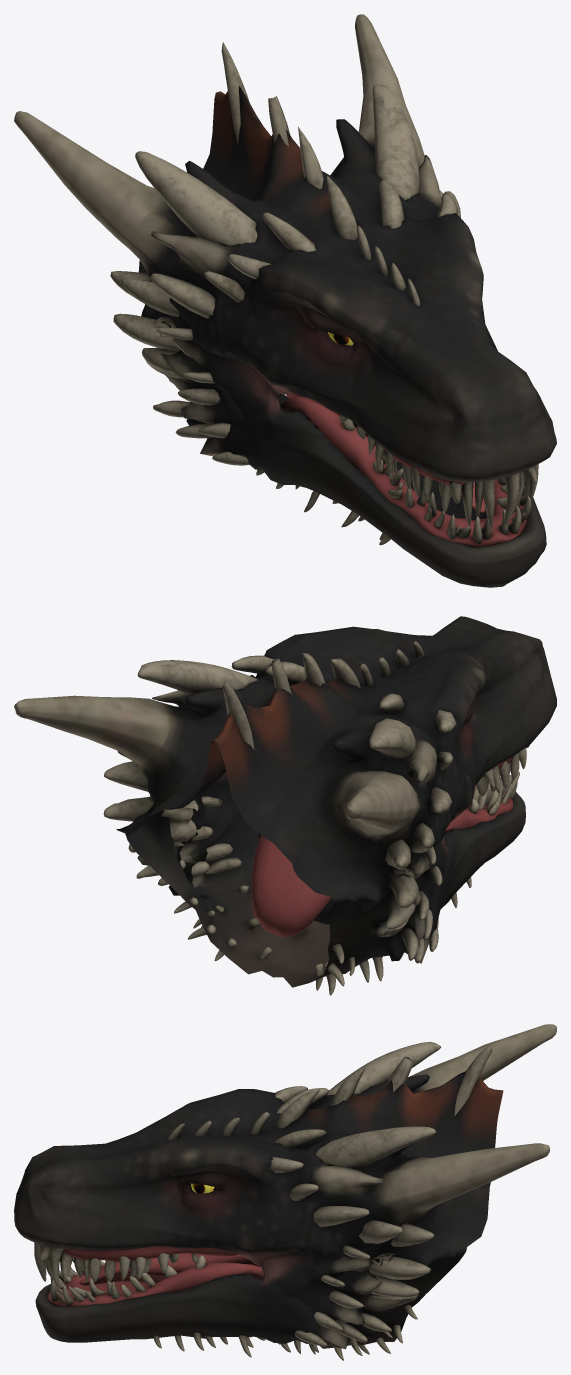
The model's file is dragon_00003.obj.
The picture shows the model from 3 angles, top to bottom: view 1: azimuth 30°, elevation 25°; view 2: azimuth 150°, elevation 25°; view 3: azimuth 270°, elevation 25°; orthographic projection. The views are drawn at different scales.
Visible parts, largest first — view 1: Dragon_Untitled; view 2: Dragon_Untitled; view 3: Dragon_Untitled.
Part boxes in pixels (left/top/right/bottom): Dragon_Untitled: left=14, top=14, right=556, bottom=587; Dragon_Untitled: left=14, top=616, right=556, bottom=995; Dragon_Untitled: left=14, top=1024, right=556, bottom=1360.
Size of the model in its own units: 2.72 by 2.7 by 4.46.
